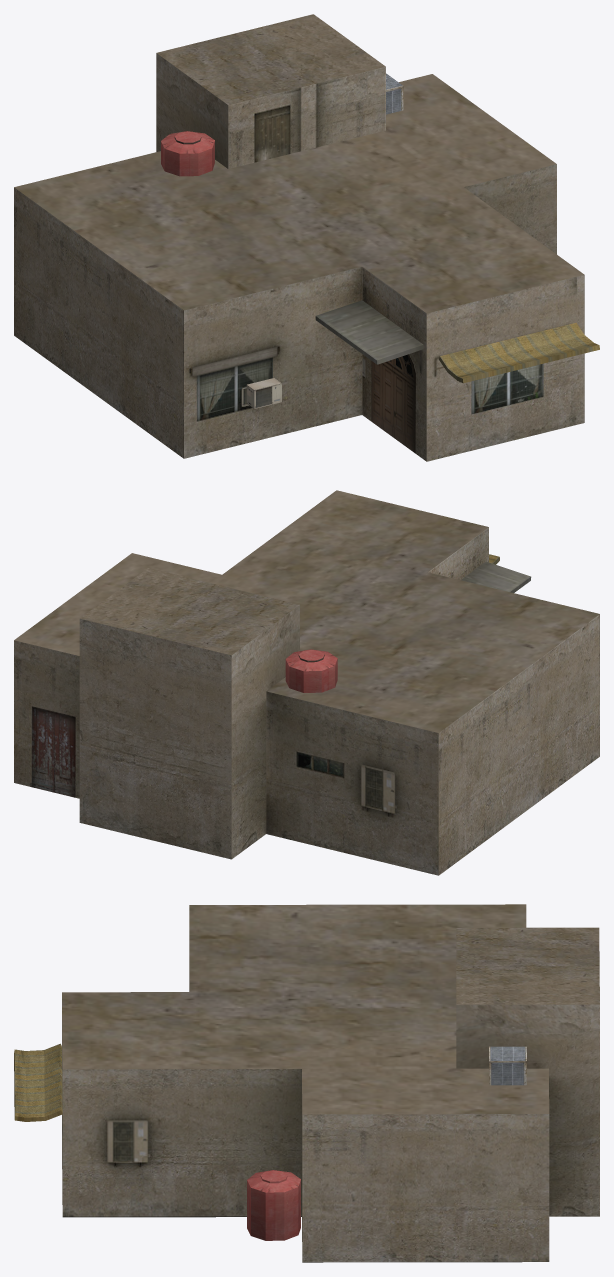
The model's file is building11.fbx.
The picture shows the model from 3 angles, top to bottom: view 1: azimuth 30°, elevation 25°; view 2: azimuth 150°, elevation 25°; view 3: azimuth 270°, elevation 25°; orthographic projection. The views are drawn at different scales.
Parts seen in each view (by area): view 1: Building_47; view 2: Building_47; view 3: Building_47.
Boxes of the visible parts, bbox=[...] form: Building_47: bbox=[14, 14, 599, 461]; Building_47: bbox=[14, 490, 599, 875]; Building_47: bbox=[14, 904, 599, 1262].
Bounding box in the file's own units: 1112 × 525 × 1311.
